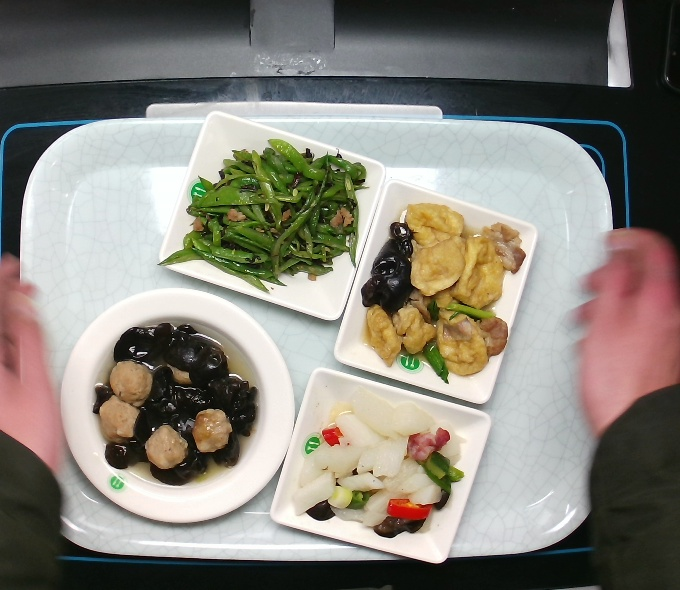wcq-MuErWanZi: (94, 320, 261, 486)
wcq-ShanYao: (288, 397, 466, 540)
wcq-SiJiDouChaoRou: (185, 141, 368, 291)
wcq-YouPaoRouPian: (358, 201, 527, 384)
